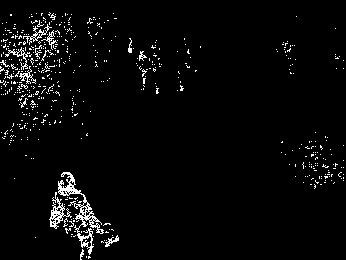person: (48, 171, 121, 260)
